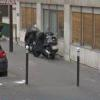Motorcycle: (17, 22, 58, 60)
